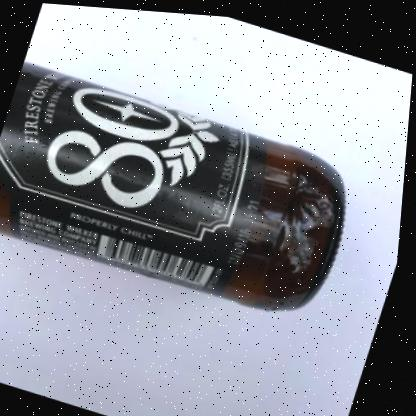Glass: (0, 62, 348, 305)
